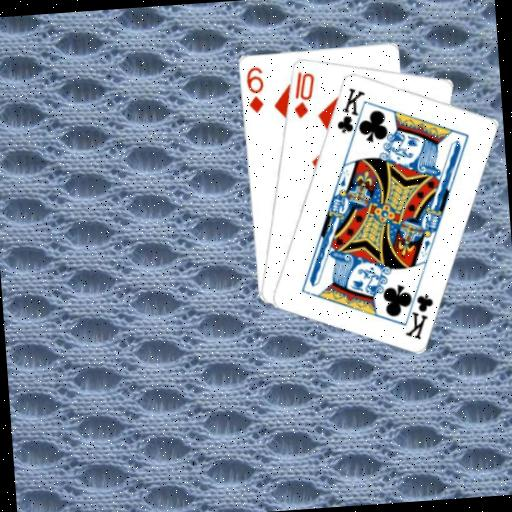10D: (289, 68, 319, 121)
6D: (242, 63, 266, 115)
KC: (397, 281, 438, 342), (332, 83, 372, 144)
